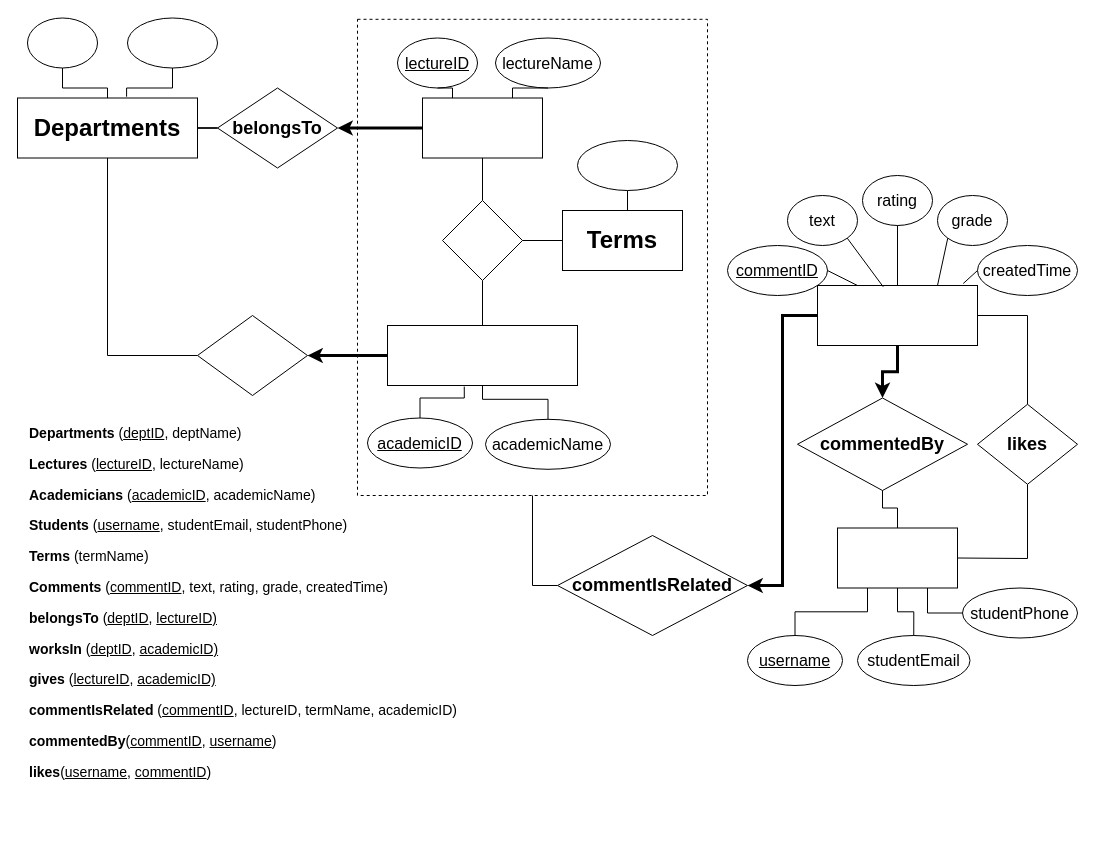
The diagram is 1095 pixels wide and 842 high, and some of its shapes have lost their labels. The box of each missing label's shape, as (x1, y1, x2, y2) in pixels:
Academicians: (386, 324, 578, 386)
Comments: (816, 284, 978, 346)
deptID: (26, 17, 98, 68)
deptName: (126, 17, 218, 68)
gives: (442, 200, 522, 280)
Lectures: (422, 97, 542, 158)
Students: (836, 527, 958, 588)
termName: (576, 140, 678, 190)
worksIn: (196, 314, 308, 396)
